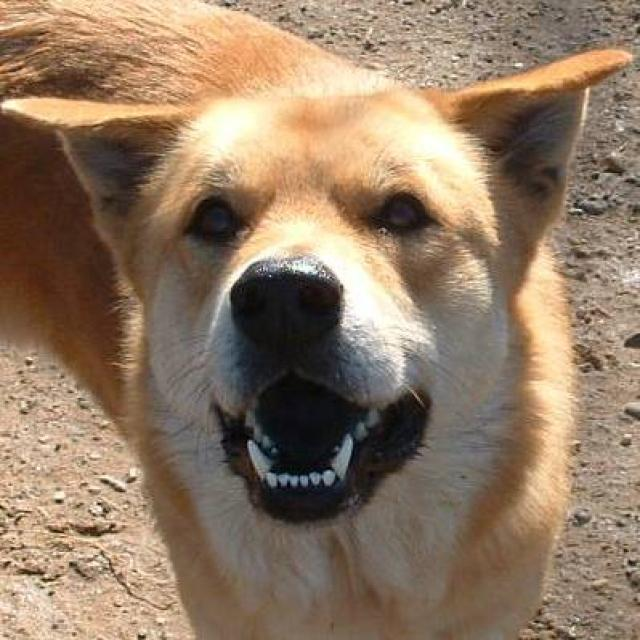dog: (0, 0, 635, 638)
